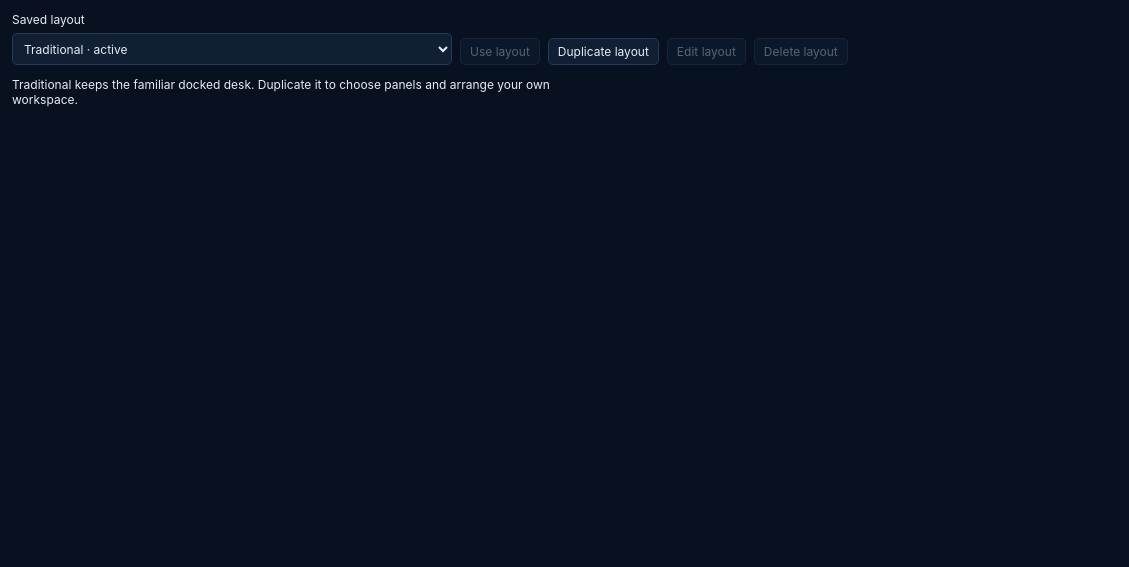
it: saves supported native placements without opening windows while editing and retains unrelated roles
Select "Custom" in the dropdown labelled "Saved layout". click: (232, 49)
box: [12,33,452,65]
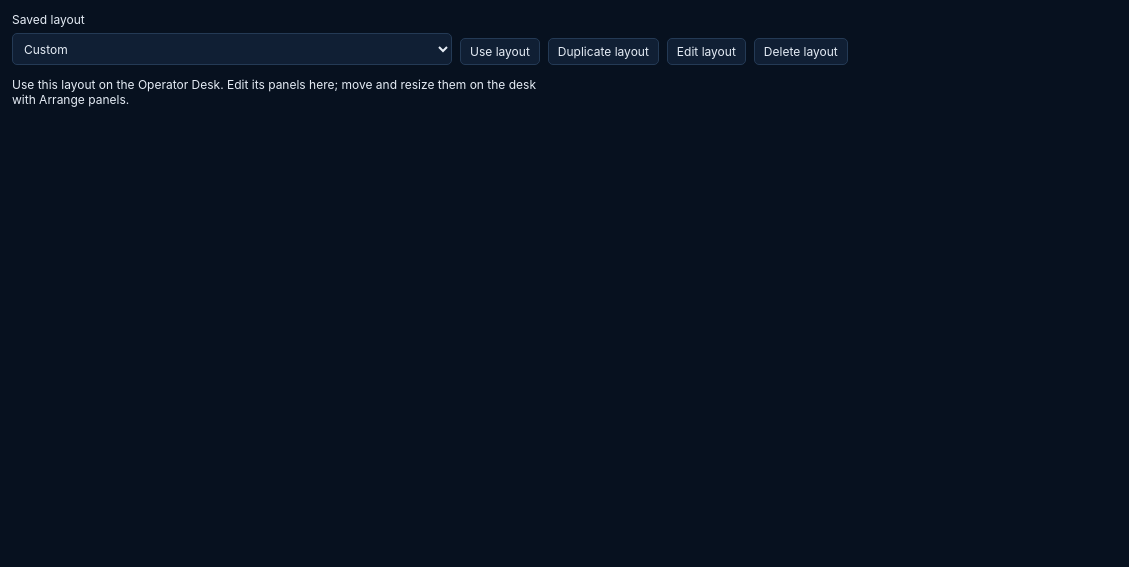
Click the button "Edit layout". click: (706, 52)
box: [667,38,746,65]
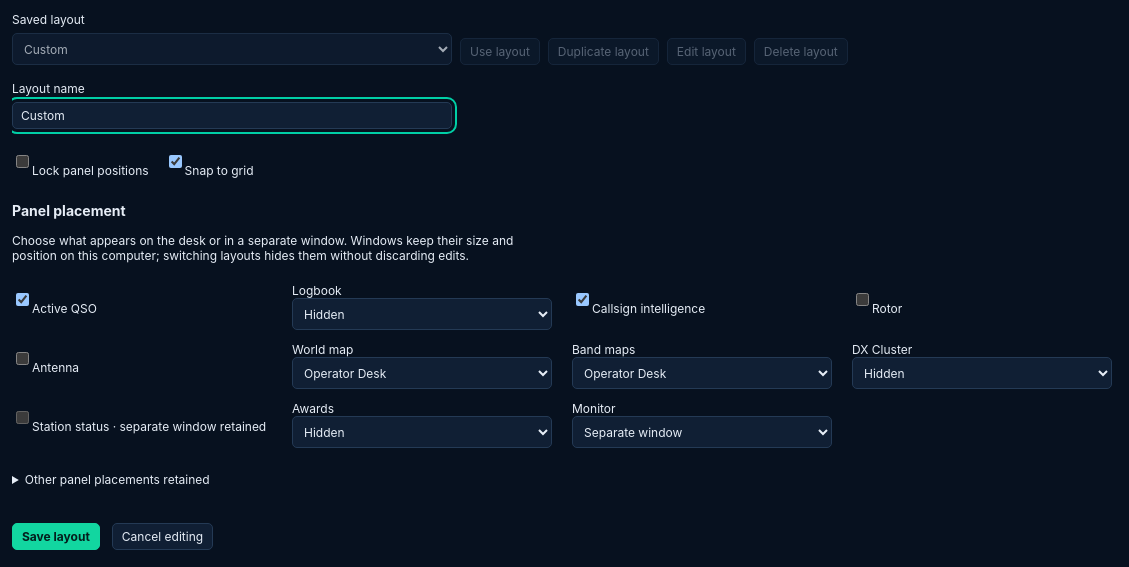
Select "Separate window" in the dropdown named "World map placement". click: (422, 373)
box: [292,357,552,389]
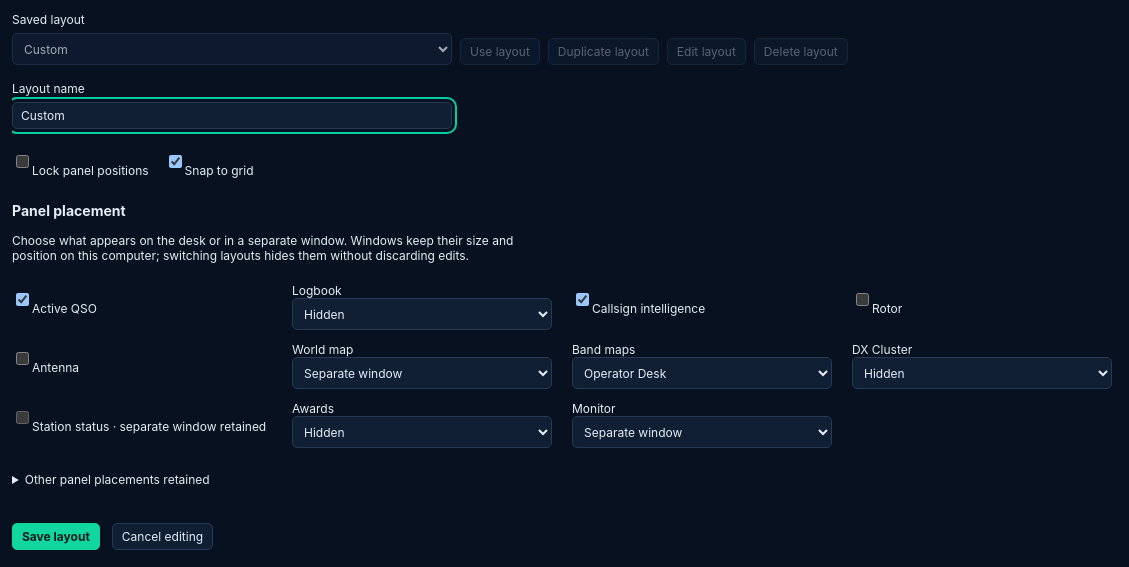
Select "Hidden" in the dropdown named "Monitor placement". click: (702, 432)
box: [572,416,832,448]
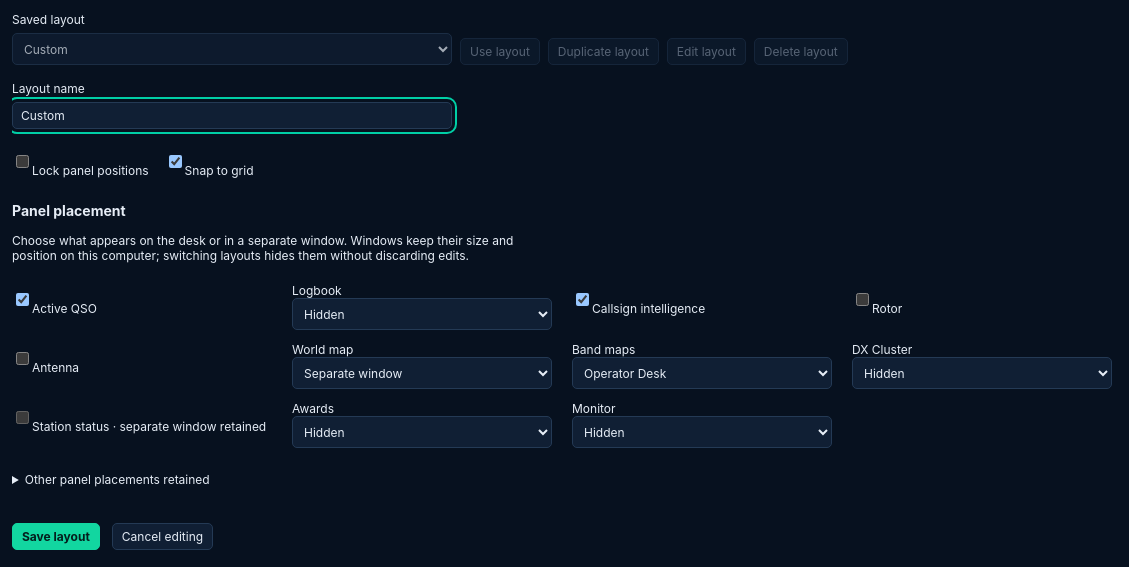
Expected: the text labelled "Monitor placement" does not show "Operator Desk"
Click the button "Save layout". click: (56, 536)
box: [12,523,100,550]
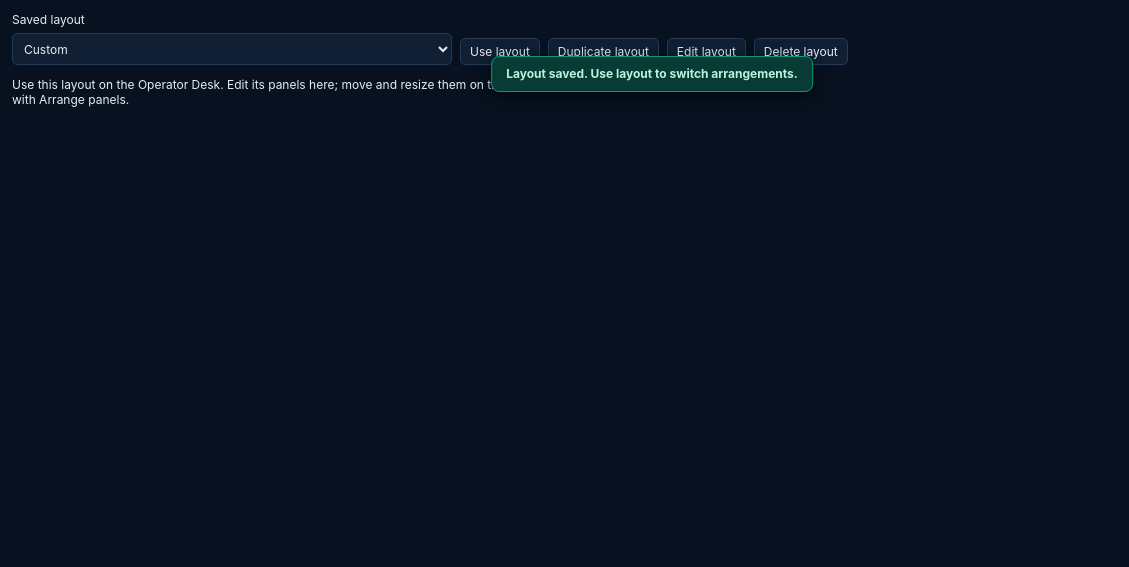
Expected: the text "Layout saved. Use layout to switch arrangements." is shown, [491,56,813,92]
